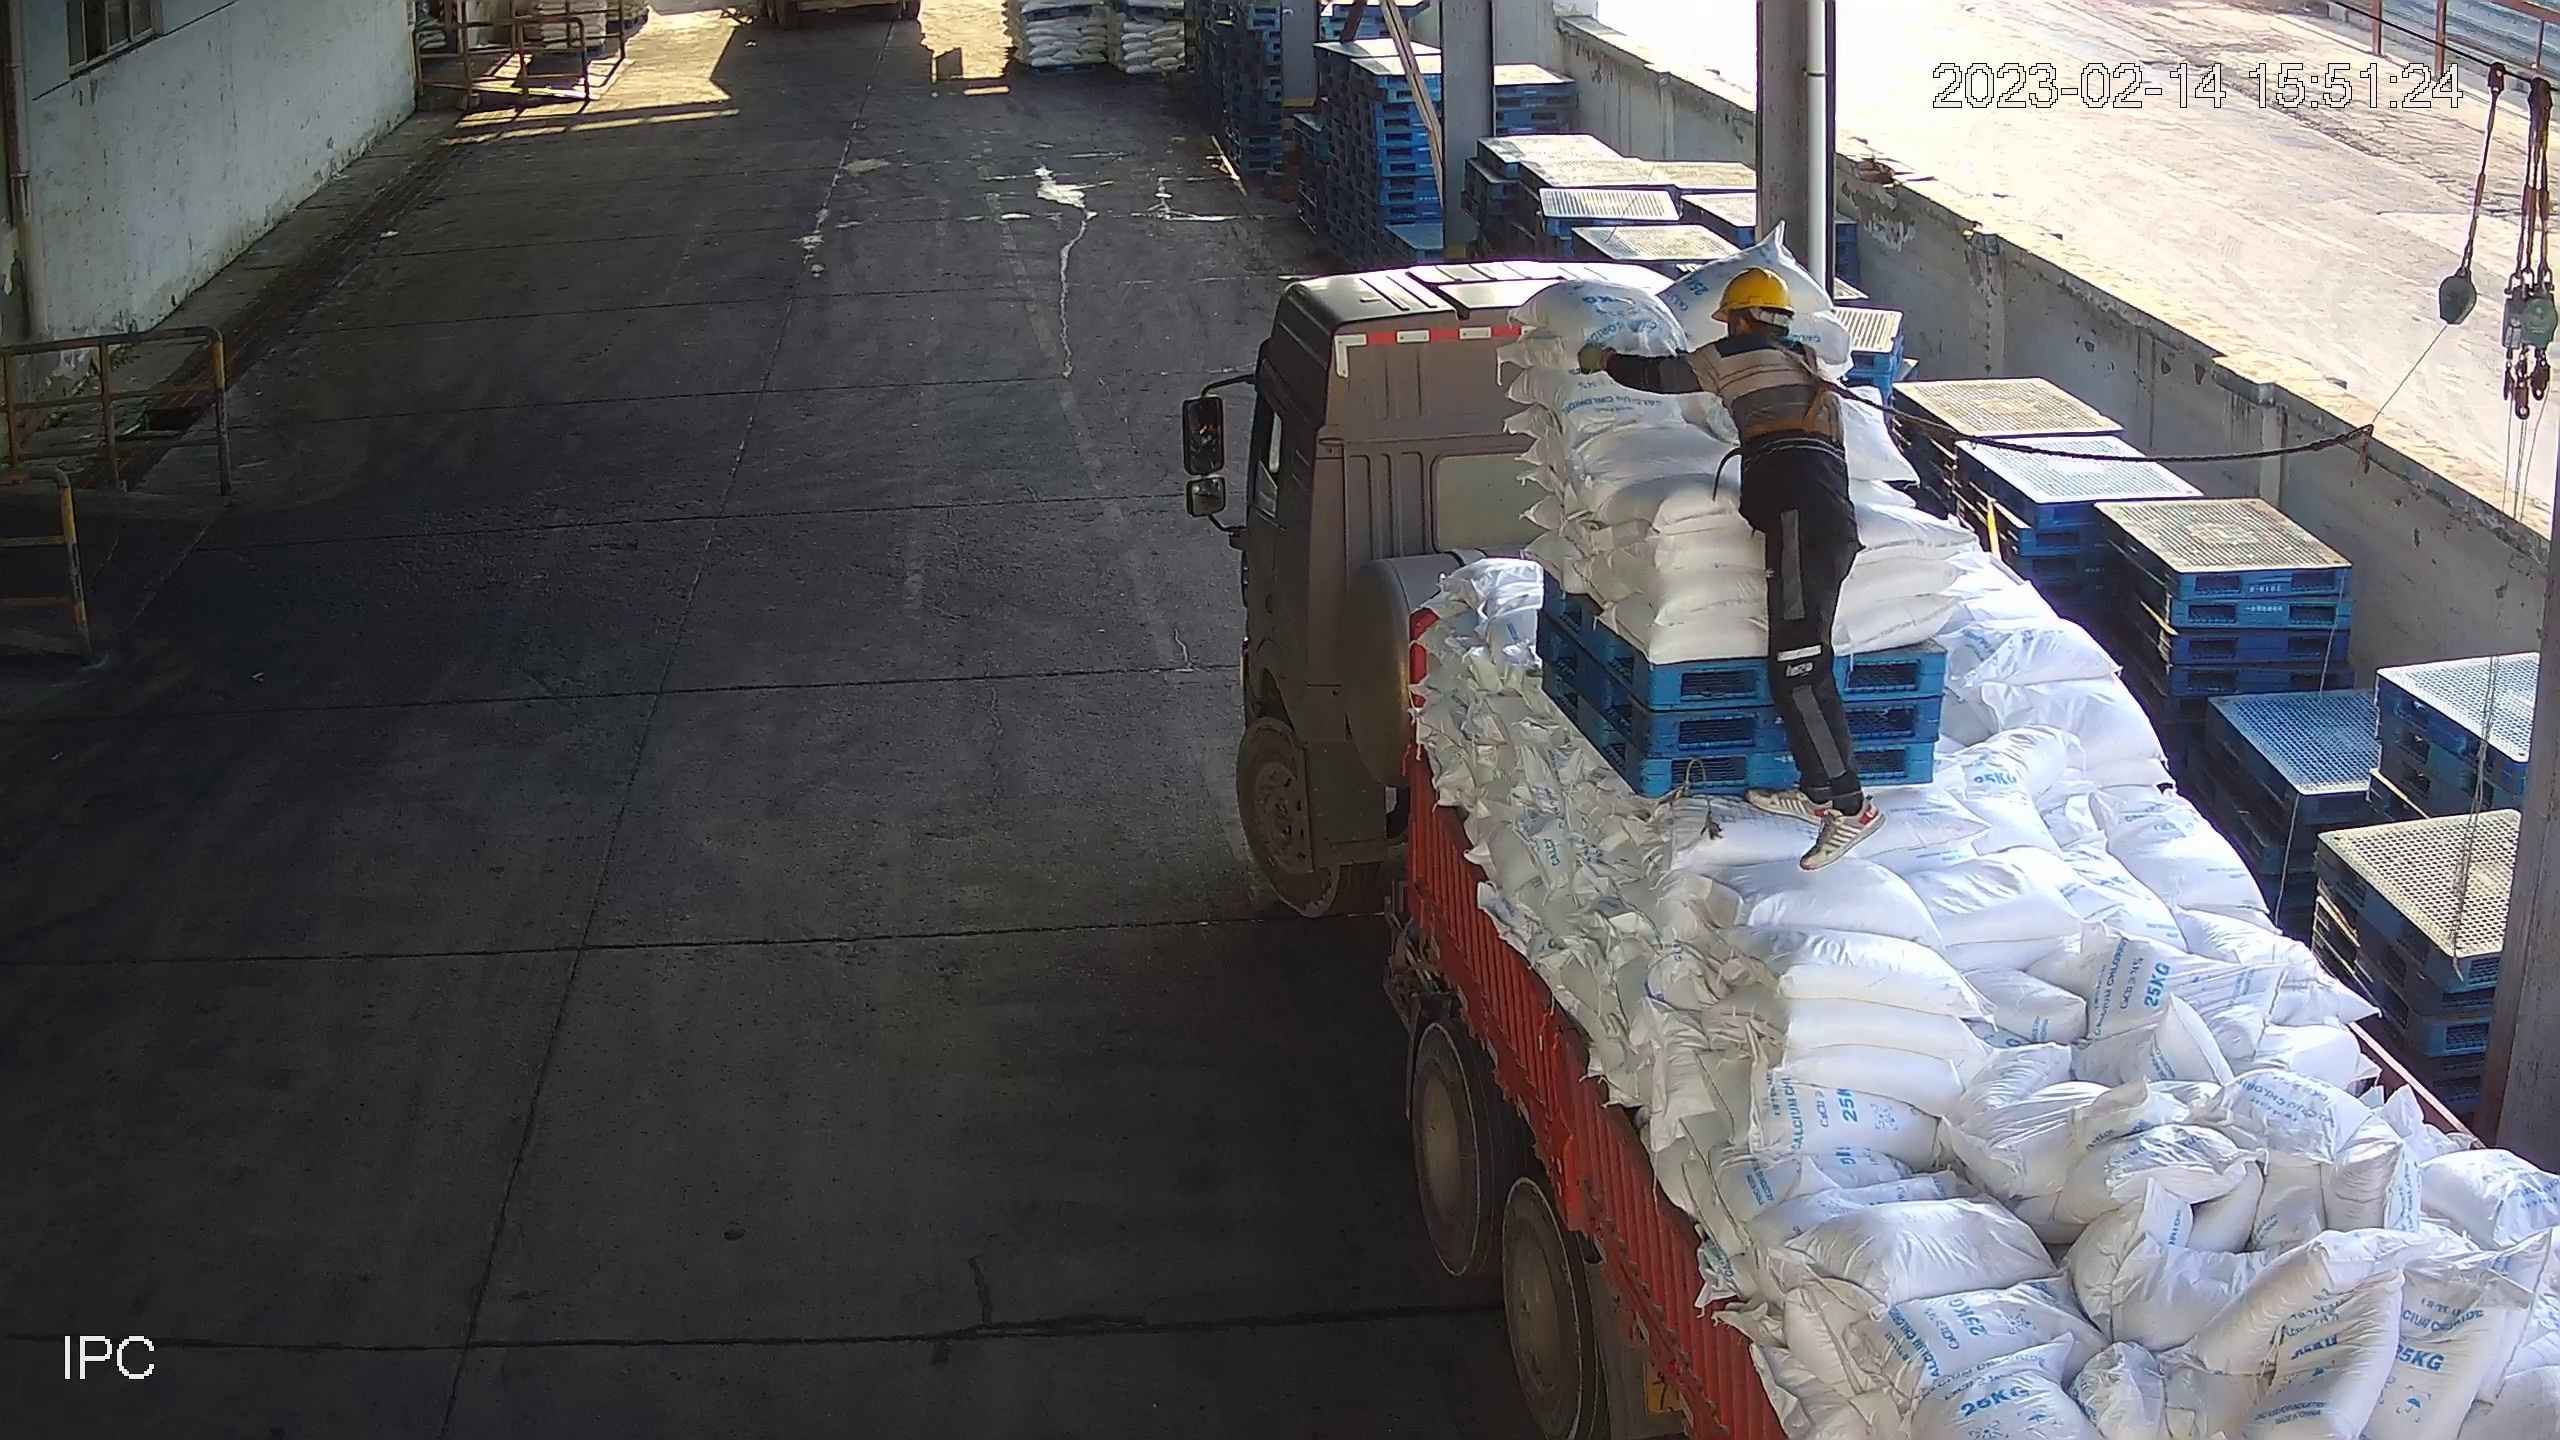belt: (1737, 334, 1866, 447)
head: (1692, 266, 1834, 384)
helmet: (1711, 267, 1795, 324)
people: (1577, 267, 1886, 872)
truck: (1228, 257, 2560, 1440)
